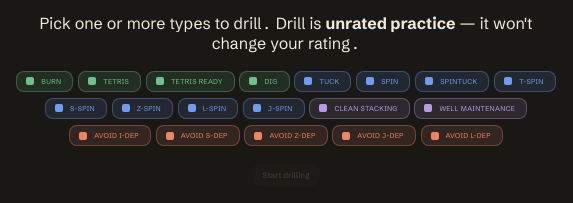
Test: DrillMode (#85) › Start is disabled until at least one type is selected
Check: the button "Start drilling" is disabled, box [252,164,320,186]
Click the button "Tuck" at (323, 81), box [294,70,351,92]
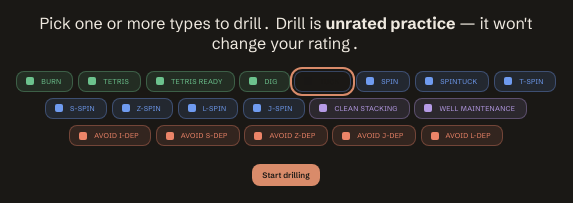
Check: the button "Start drilling" is enabled, box [252,164,320,186]
